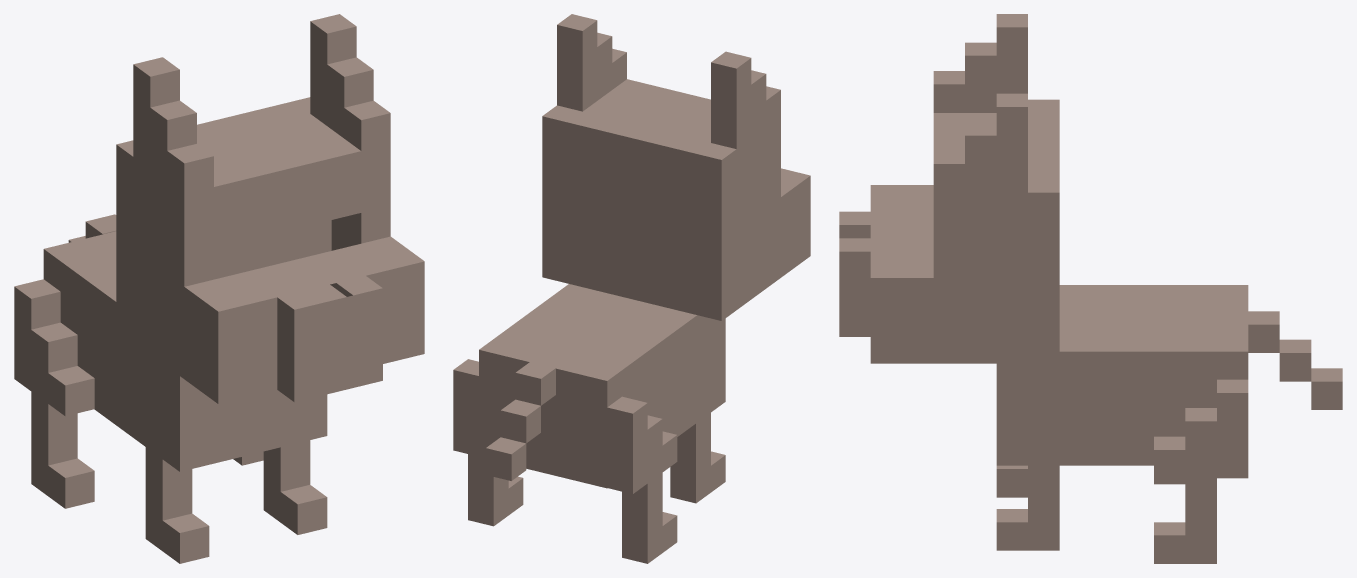
The model's file is Dog.fbx.
3 views of the same model, side by side, from view 1: azimuth 30°, elevation 25°; view 2: azimuth 150°, elevation 25°; view 3: azimuth 270°, elevation 25° (orthographic). The views are drawn at different scales.
Parts seen in each view (by area): view 1: Head, Body, LegBR, LefFR, LegFL, Tail; view 2: Head, Body, LegBR, LegBL, Tail, LefFR; view 3: Head, Body, LegBL, LegFL, Tail, LefFR.
Boxes of the visible parts, x1,y1,x2,y2 form: Head: (116, 14, 424, 404); Body: (43, 231, 327, 471); LegBR: (14, 279, 94, 508); LefFR: (145, 447, 209, 563); LegFL: (263, 440, 327, 534); Tail: (68, 214, 116, 242); Head: (542, 14, 810, 320); Body: (479, 284, 725, 488); LegBR: (607, 396, 677, 563); LegBL: (453, 359, 523, 526); Tail: (486, 362, 555, 480); LefFR: (670, 413, 725, 503); Head: (839, 14, 1059, 363); Body: (996, 285, 1248, 465); LegBL: (1154, 379, 1248, 563); LegFL: (996, 465, 1059, 550); Tail: (1248, 311, 1342, 409); LefFR: (996, 465, 1027, 497).
Size of the model in its own units: 70 by 160 by 160.
